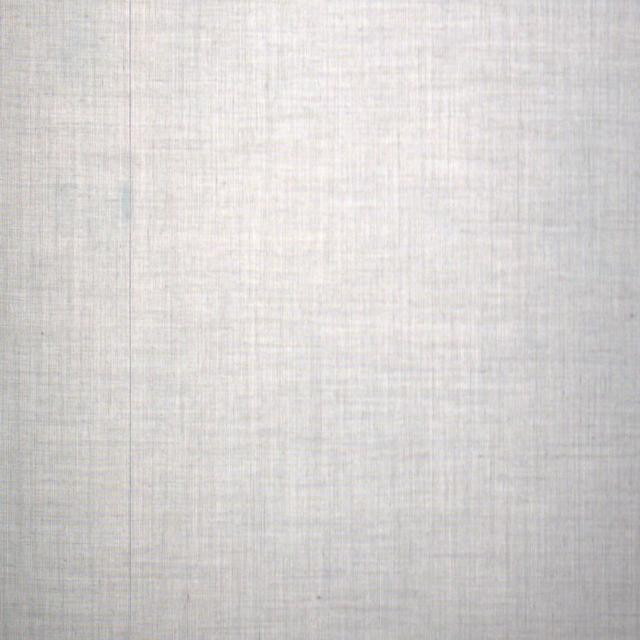dirty: (118, 181, 134, 221)
